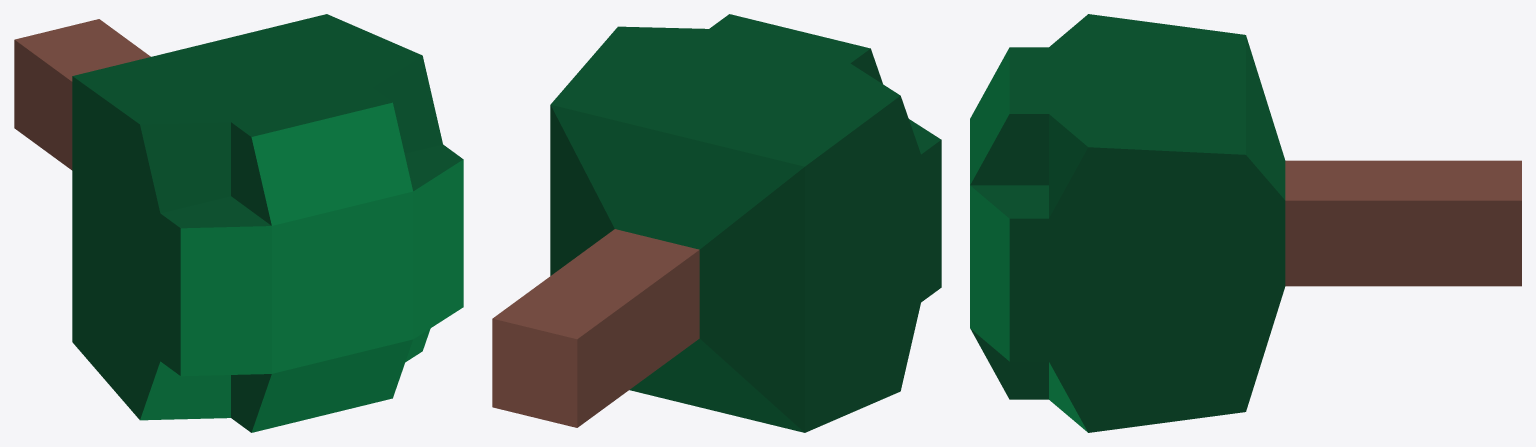
Rendered from step_0.glb.
The picture shows the model from 3 angles, left to right: view 1: azimuth 30°, elevation 25°; view 2: azimuth 150°, elevation 25°; view 3: azimuth 270°, elevation 25°; orthographic projection. The views are drawn at different scales.
Visible parts, largest first — view 1: wood.medium.0; view 2: wood.medium.0; view 3: wood.medium.0.
Boxes of the visible parts, left/top/right/bottom form: wood.medium.0: left=14, top=14, right=463, bottom=432; wood.medium.0: left=492, top=14, right=941, bottom=432; wood.medium.0: left=970, top=14, right=1521, bottom=432.
Size of the model in its own units: 0.8 by 0.8 by 1.4.
